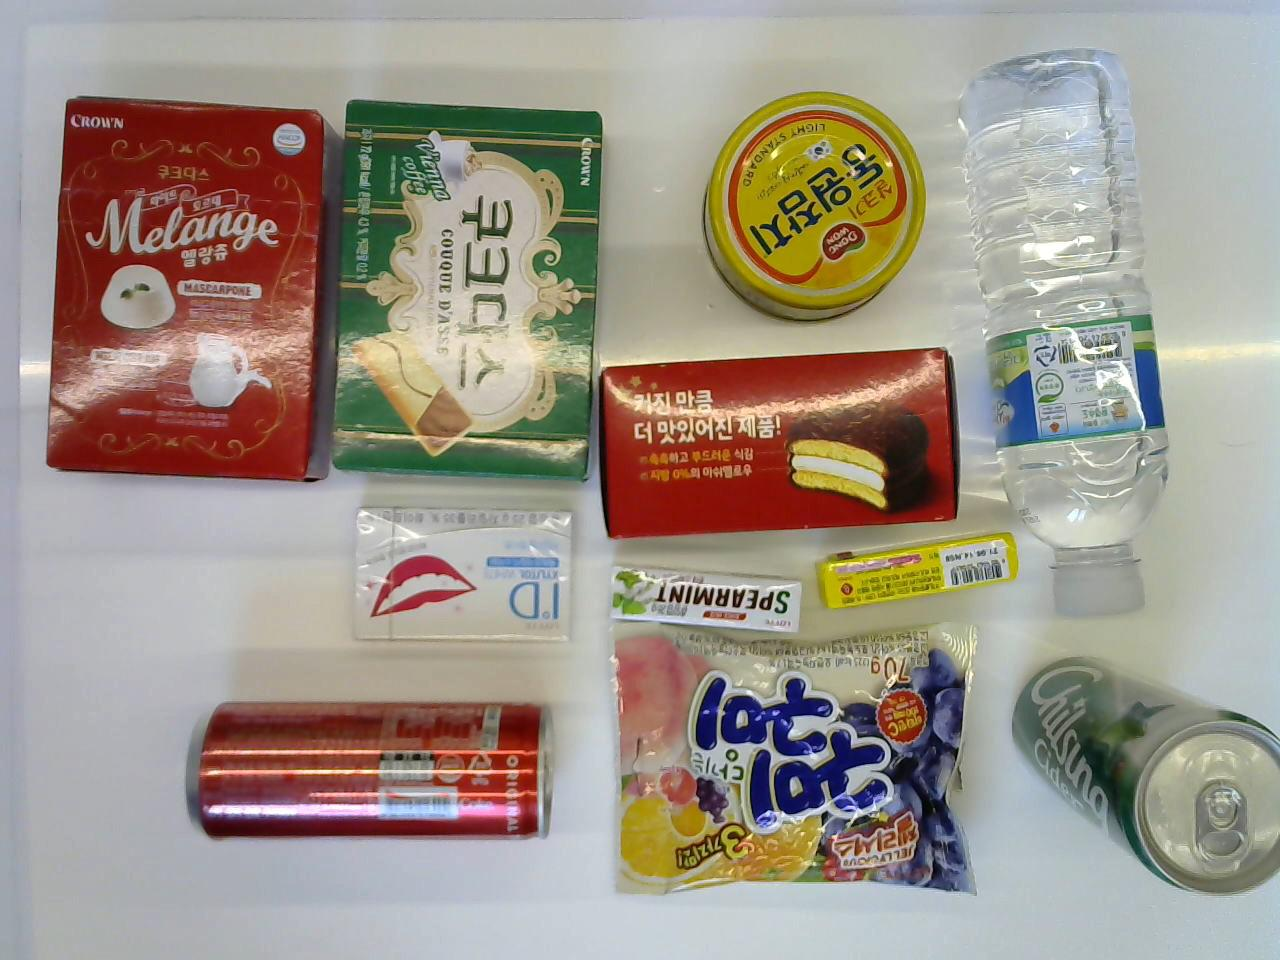ID_gum: (345, 498, 575, 649)
chocopie: (593, 342, 965, 541)
cidar: (1006, 644, 1280, 905)
coke: (174, 688, 552, 850)
couque_coffee: (323, 89, 614, 486)
couque_white: (39, 89, 338, 487)
gumi_gumi: (608, 616, 994, 901)
juicyfresh: (809, 527, 1017, 624)
samdasu: (957, 37, 1176, 628)
spearmint: (600, 547, 806, 632)
tuna: (694, 85, 930, 327)
